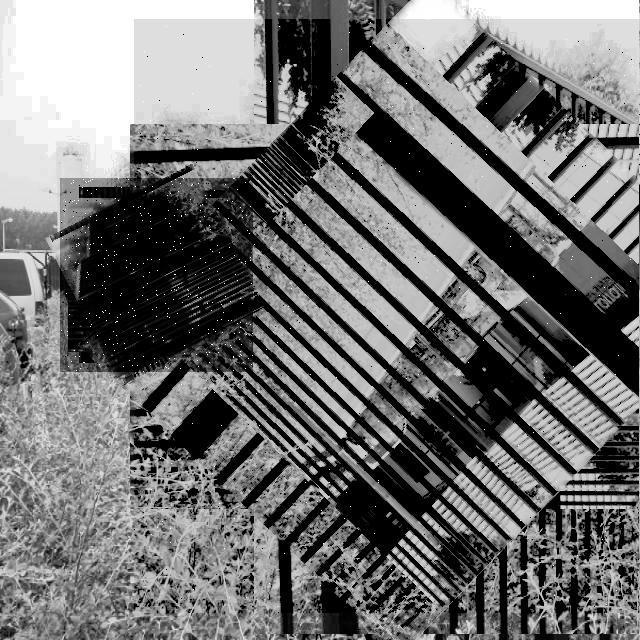fences: (134, 19, 640, 613), (60, 178, 253, 372)
